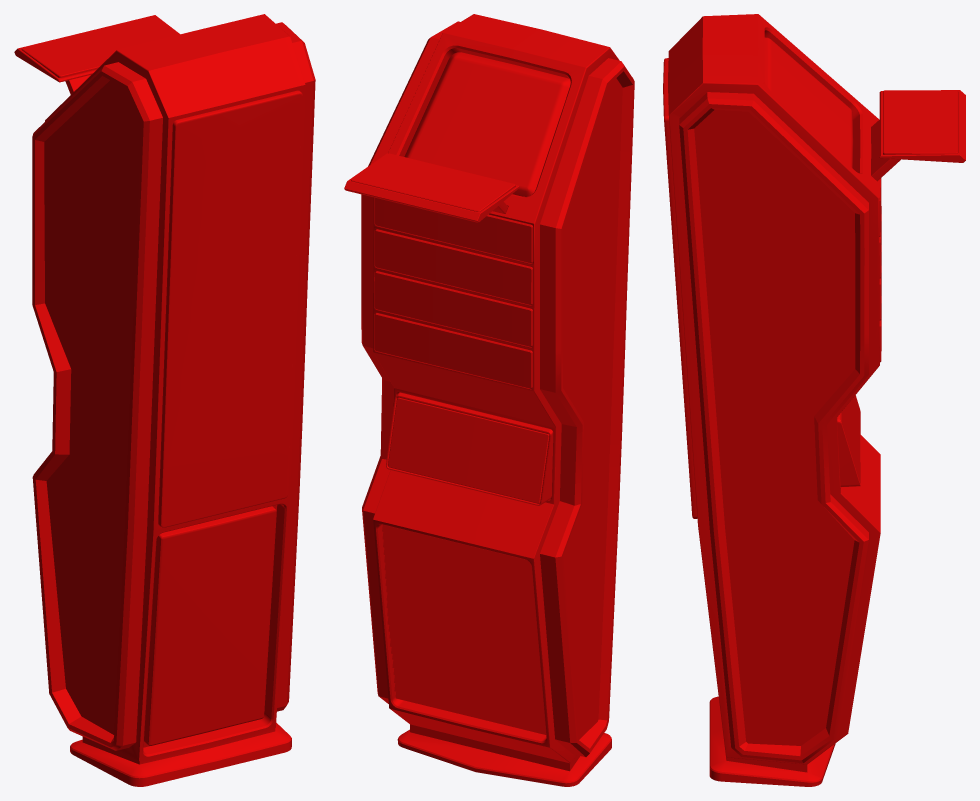
File: Panel_4.fbx
3 renders of one model, left to right at view 1: azimuth 30°, elevation 25°; view 2: azimuth 150°, elevation 25°; view 3: azimuth 270°, elevation 25°, orthographic. The views are drawn at different scales.
Visible parts, largest first — view 1: L11:polySurface82; view 2: L11:polySurface82; view 3: L11:polySurface82.
Boxes of the visible parts, x1,y1,x2,y2 form: L11:polySurface82: [14, 14, 315, 786]; L11:polySurface82: [344, 14, 634, 786]; L11:polySurface82: [663, 14, 965, 786].
Size of the model in its own units: 43.54 by 144 by 56.92.
